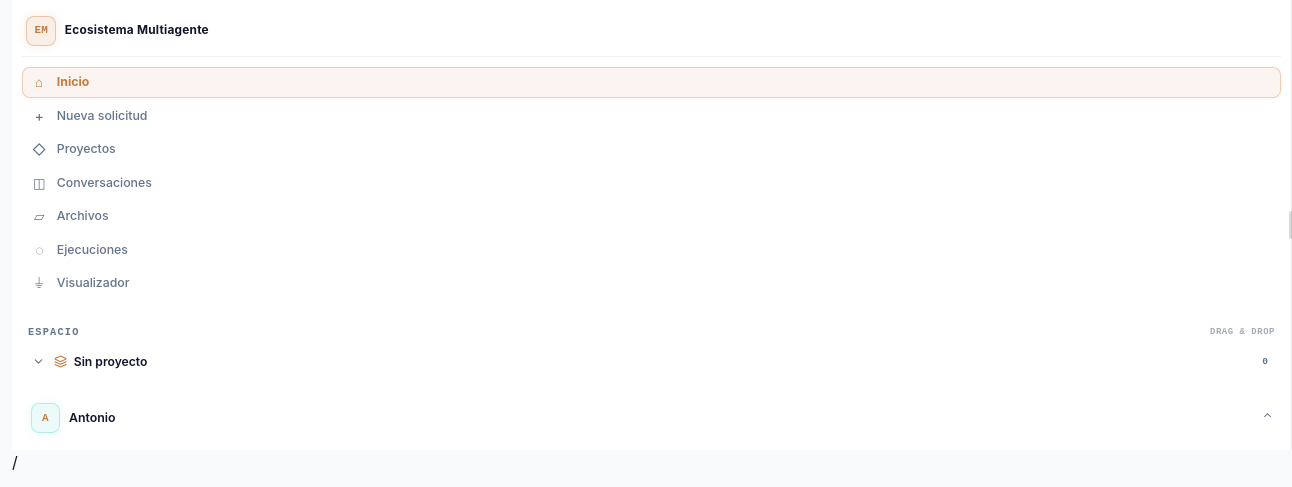
Test case: opens an accessible profile menu
The width and height of the screenshot is (1292, 487).
Click the button with aria-label "Perfil de Antonio" at (92, 417), box [22,396,1281,440]
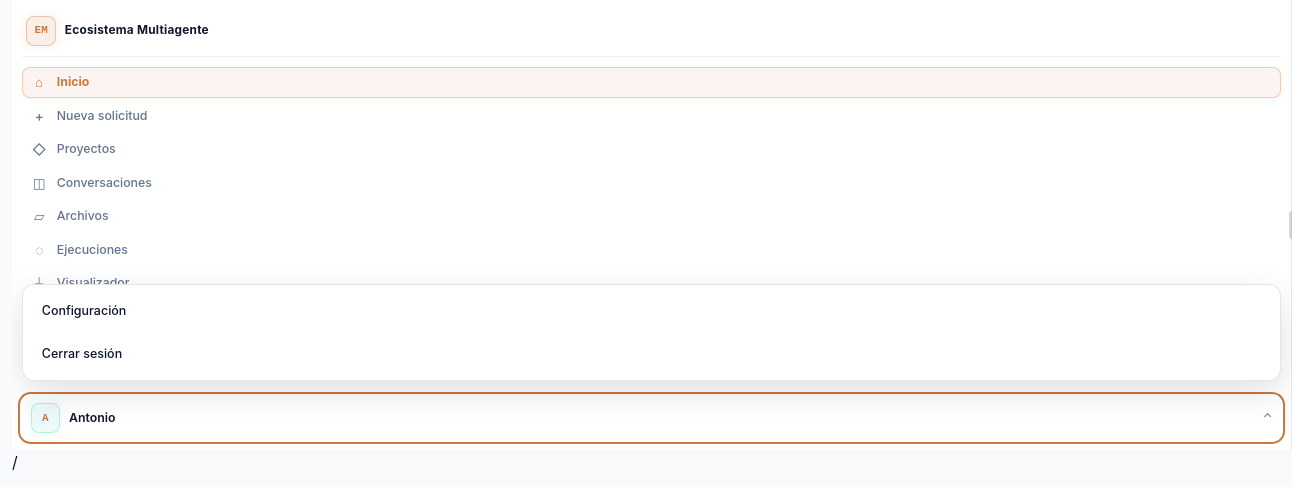
Result: the menu named "Menú de perfil" is shown at [22,284,1281,381]
